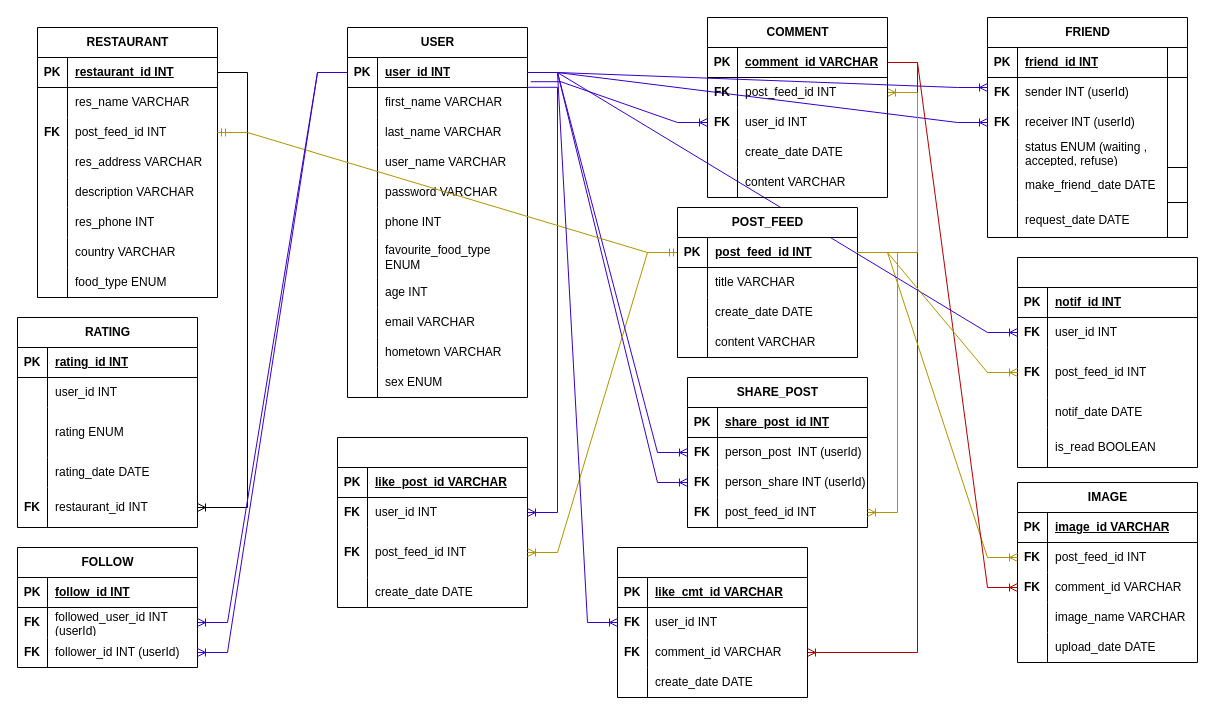
Some shapes in this 1215 by 715 pixel diagram are drawn without their labels. Here are the shapes that lost their labels. From the top down, the box of each, then its label:
(1016, 256, 1198, 468): NOTIFICATION
(336, 436, 528, 608): LIKE_POST_FEED
(616, 546, 808, 698): LIKE_COMMENT
